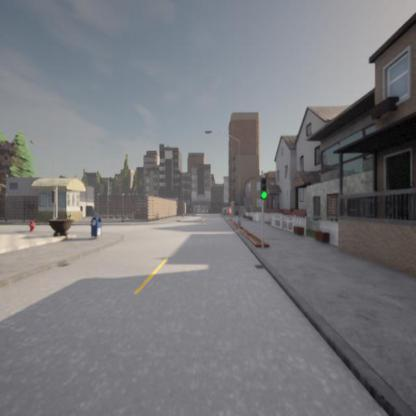traffic_light_green: (262, 179, 268, 201)
